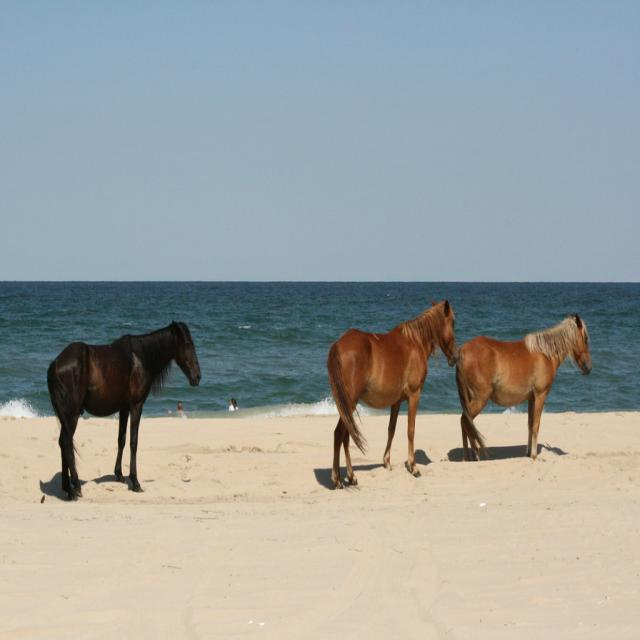Horse: (44, 319, 203, 501), (324, 295, 460, 483), (447, 314, 593, 456)
